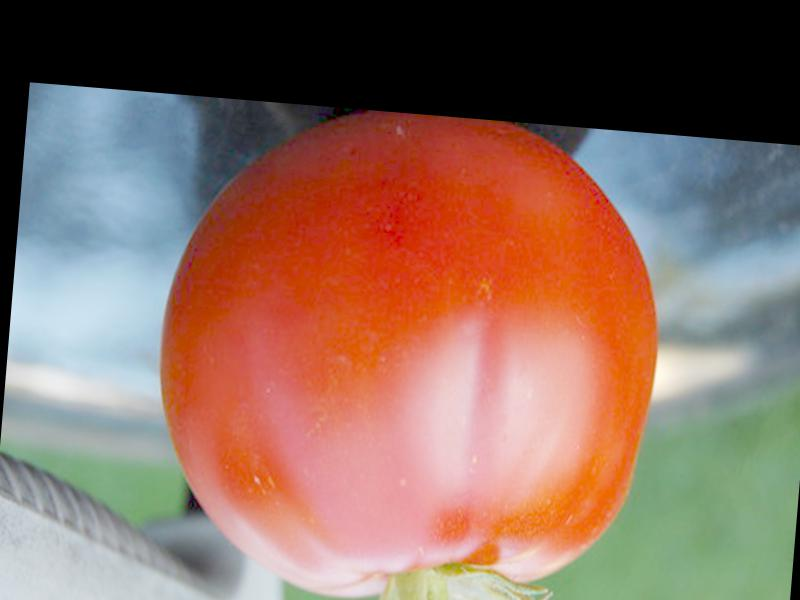Tomato: (140, 94, 675, 600)
